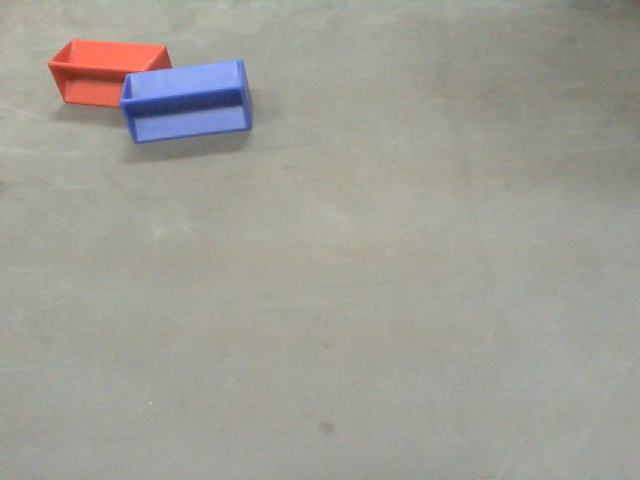BlueSample: (112, 58, 251, 143)
RedSample: (46, 38, 175, 107)
